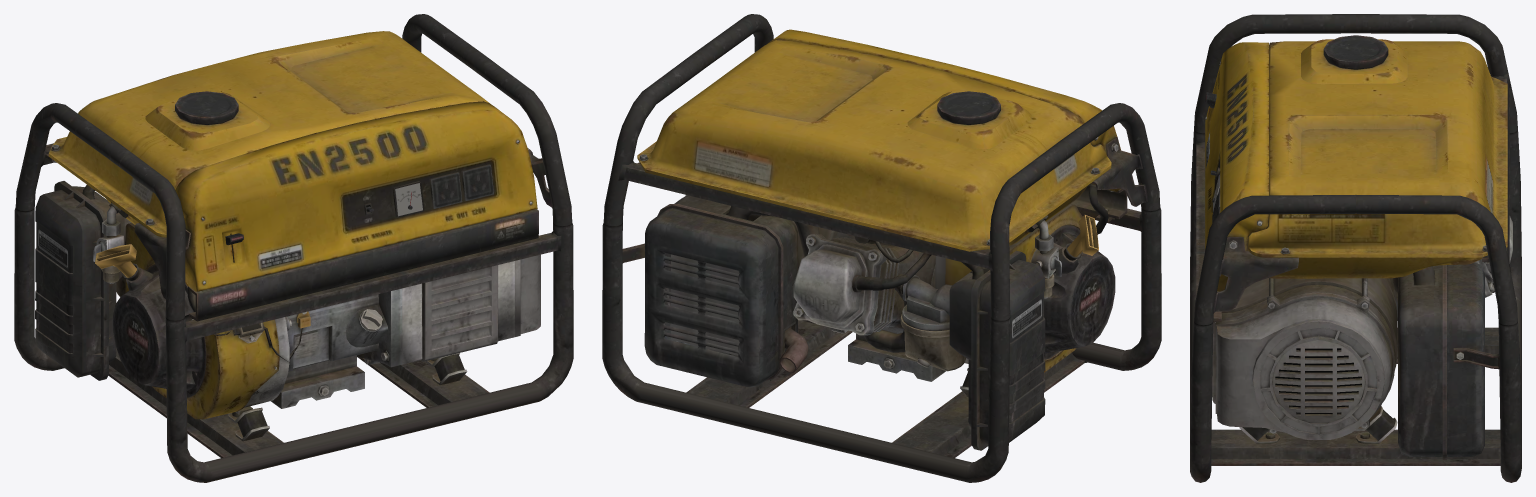
The model's file is portable_generator.glb.
The picture shows the model from 3 angles, left to right: view 1: azimuth 30°, elevation 25°; view 2: azimuth 150°, elevation 25°; view 3: azimuth 270°, elevation 25°; orthographic projection.
Visible parts, largest first — view 1: portable_generator; view 2: portable_generator; view 3: portable_generator.
Part boxes in pixels (left/top/right/bottom): portable_generator: left=14, top=14, right=573, bottom=482; portable_generator: left=602, top=14, right=1161, bottom=482; portable_generator: left=1190, top=14, right=1521, bottom=482.
Size of the model in its own units: 0.8169 by 0.5752 by 0.564.
2 materials, 2 textured.
